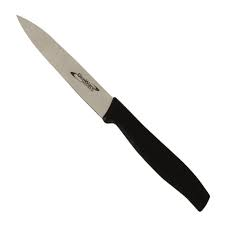breadknife: (16, 14, 211, 212)
